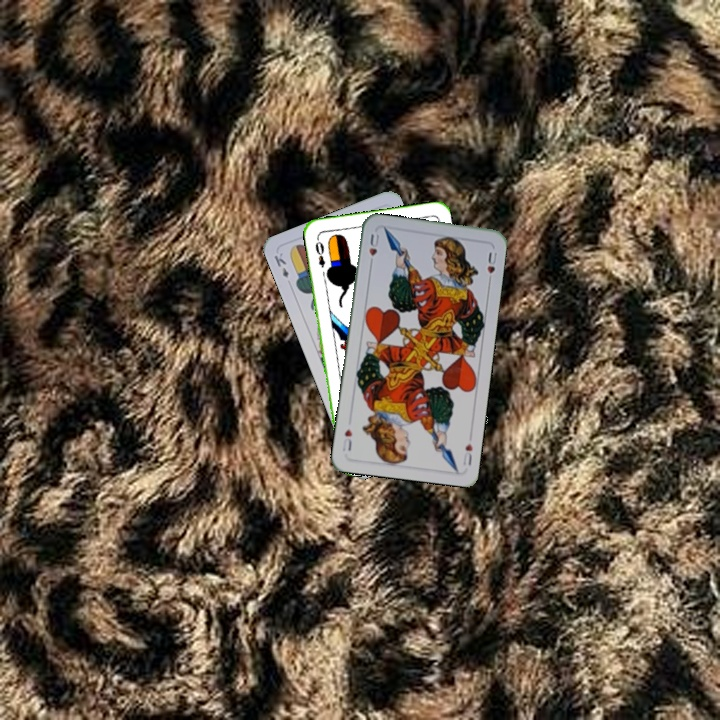EK: (270, 248, 291, 281)
EO: (311, 234, 328, 270)
HU: (365, 229, 382, 269), (459, 440, 475, 468)
